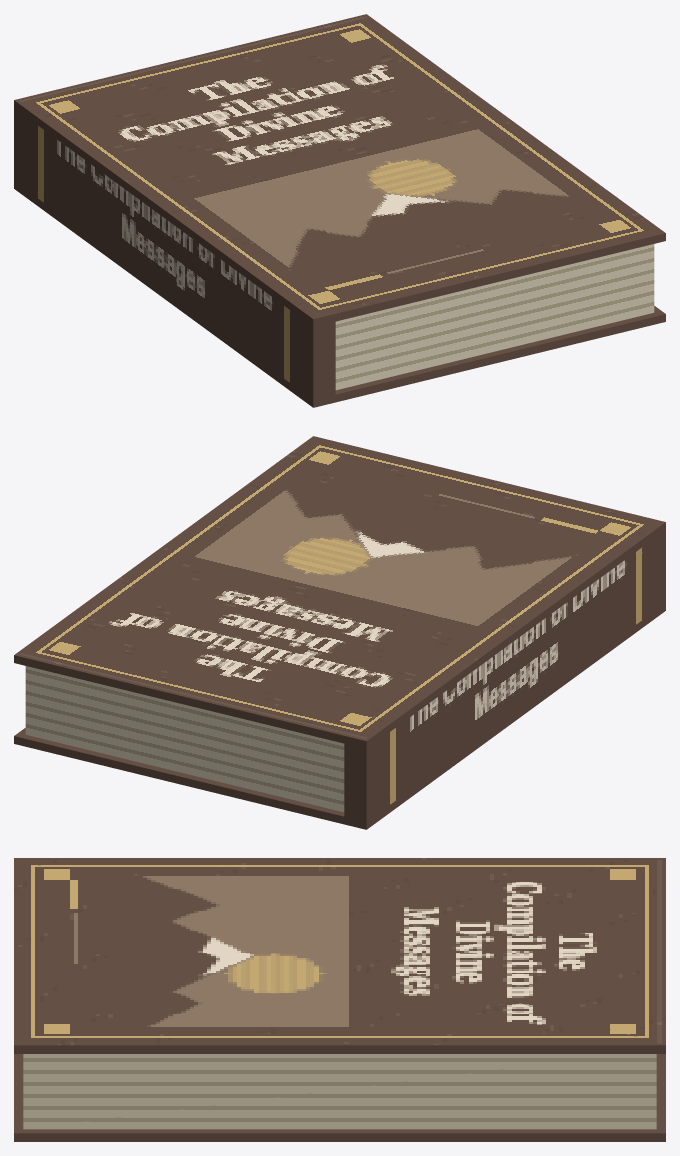
The model's file is holybook_cao.glb.
3 renders of one model, top to bottom at view 1: azimuth 30°, elevation 25°; view 2: azimuth 150°, elevation 25°; view 3: azimuth 270°, elevation 25°, orthographic. The views are drawn at different scales.
Visible parts, largest first — view 1: block_front cover, block_spine, block_page block, block_back cover; view 2: block_front cover, block_spine, block_page block, block_back cover; view 3: block_front cover, block_page block, block_back cover.
Part boxes in pixels (box(x1,y1,x2,y2)): block_front cover: box(14, 14, 665, 326); block_spine: box(14, 108, 335, 399); block_page block: box(335, 244, 654, 390); block_back cover: box(14, 181, 665, 407); block_front cover: box(14, 436, 665, 748); block_spine: box(344, 530, 665, 821); block_page block: box(25, 666, 344, 812); block_back cover: box(14, 603, 665, 829); block_front cover: box(14, 858, 665, 1053); block_page block: box(23, 1054, 656, 1129); block_back cover: box(14, 1054, 665, 1141).
Bounding box in the file's own units: 0.1414 × 0.034 × 0.208.
Materials: 1 (1 with a texture image).
